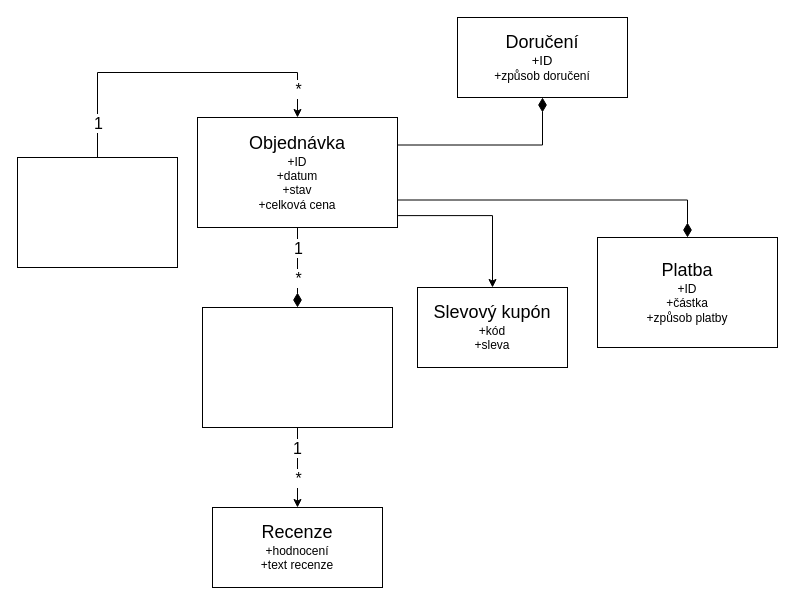
The diagram is 795 pixels wide and 605 high, and some of its shapes have lost their labels. Each missing label, with the centre of its shape:
"Produkt +ID +název +cena +popis +skladová dostupnost" belongs at point (297, 367).
"Zákazník +ID +jméno +e-mail +adresa" belongs at point (97, 212).
